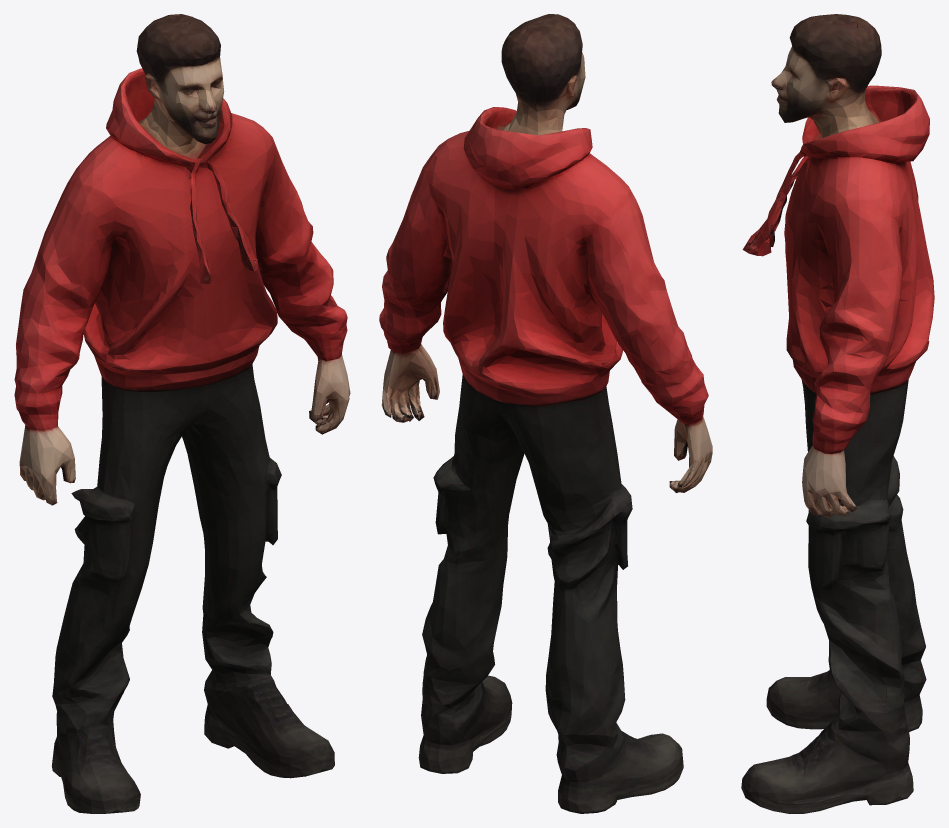
File: enemy.glb
3 views of the same model, side by side, from view 1: azimuth 30°, elevation 25°; view 2: azimuth 150°, elevation 25°; view 3: azimuth 270°, elevation 25° (orthographic).
Visible parts, largest first — view 1: geometry_0; view 2: geometry_0; view 3: geometry_0.
Part boxes in pixels (x1,y1,x2,y2): geometry_0: (14, 14, 350, 813); geometry_0: (379, 14, 712, 813); geometry_0: (741, 14, 934, 813).
Size of the model in its own units: 0.4548 by 0.9994 by 0.237.
Materials: 1 (1 with a texture image).
